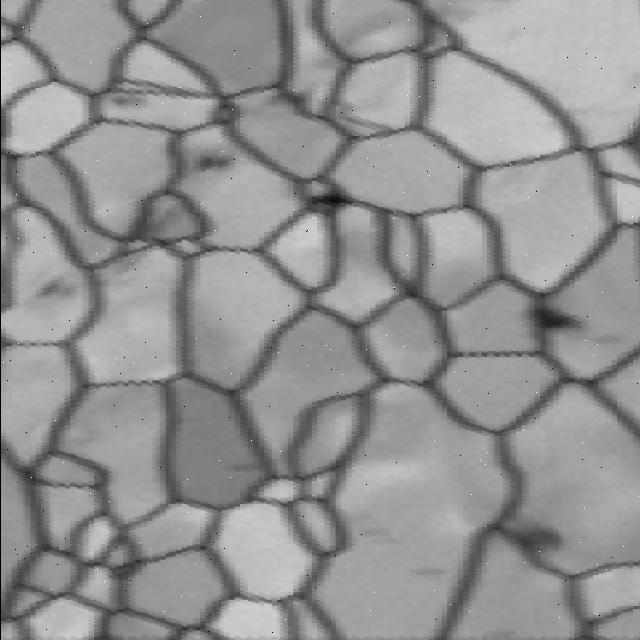good_void: (492, 519, 570, 557), (523, 303, 584, 336), (28, 278, 87, 304), (298, 187, 352, 213), (101, 93, 157, 114), (402, 560, 448, 581), (188, 154, 230, 173)
